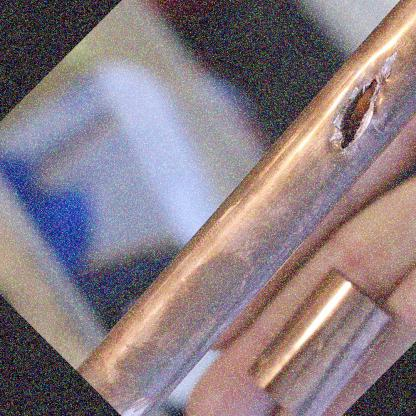burst: (328, 68, 389, 154)
